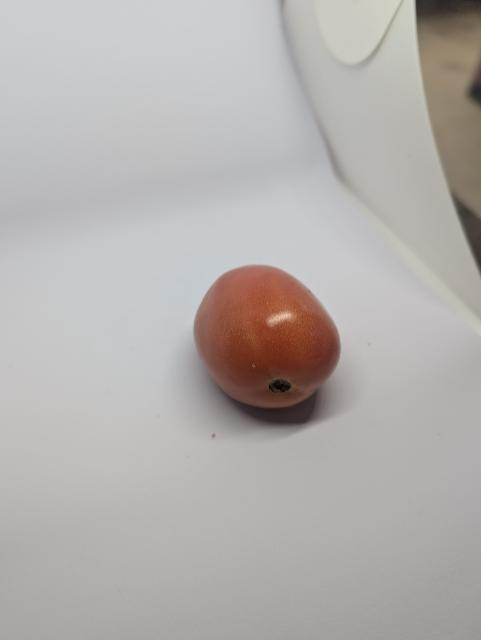red: (182, 255, 355, 414)
